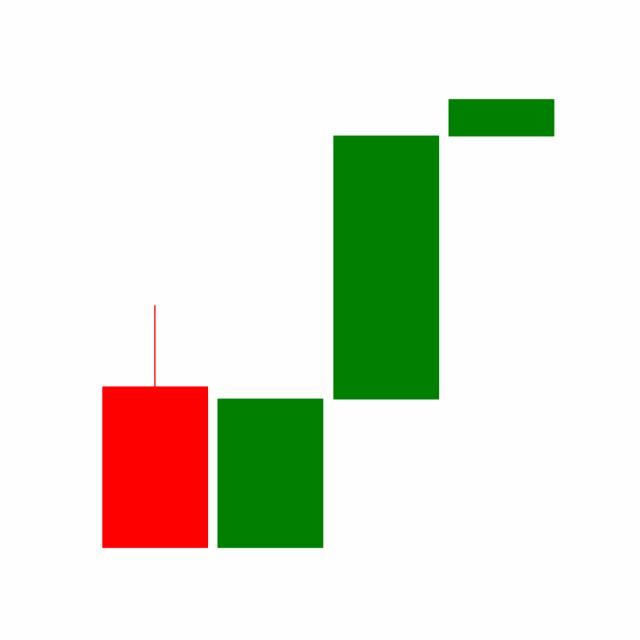Marubozu: (328, 131, 444, 402)
